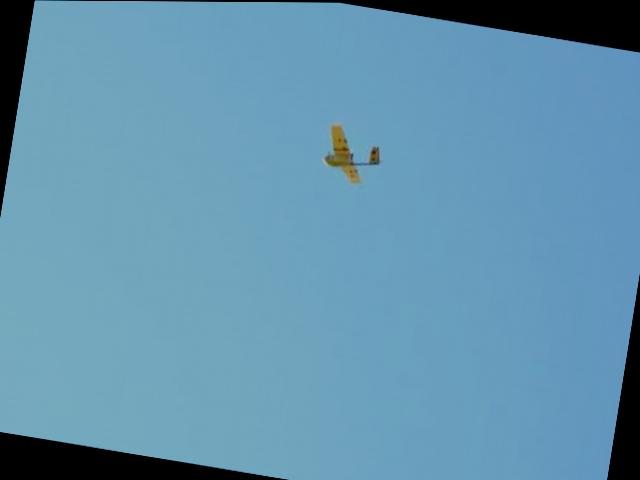iha: (308, 115, 394, 194)
